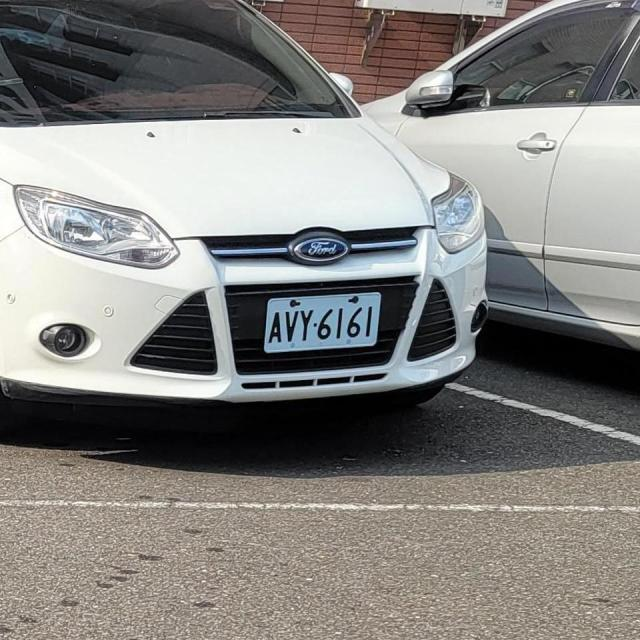W: (257, 281, 390, 361)
